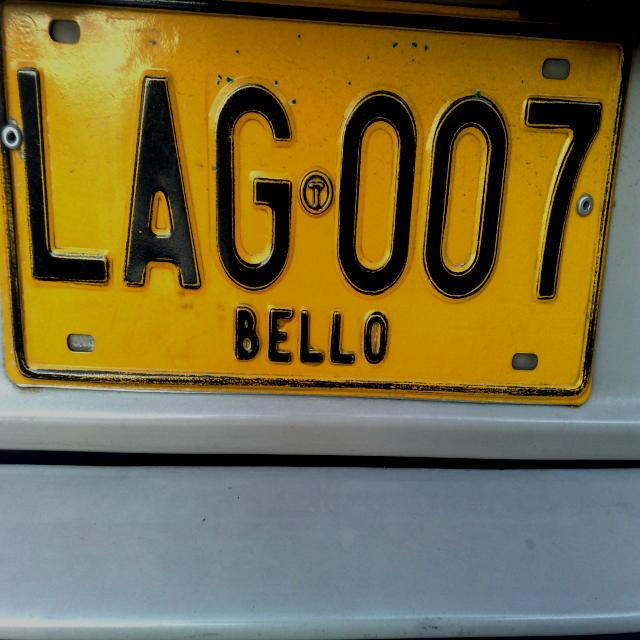placa: (2, 2, 634, 410)
